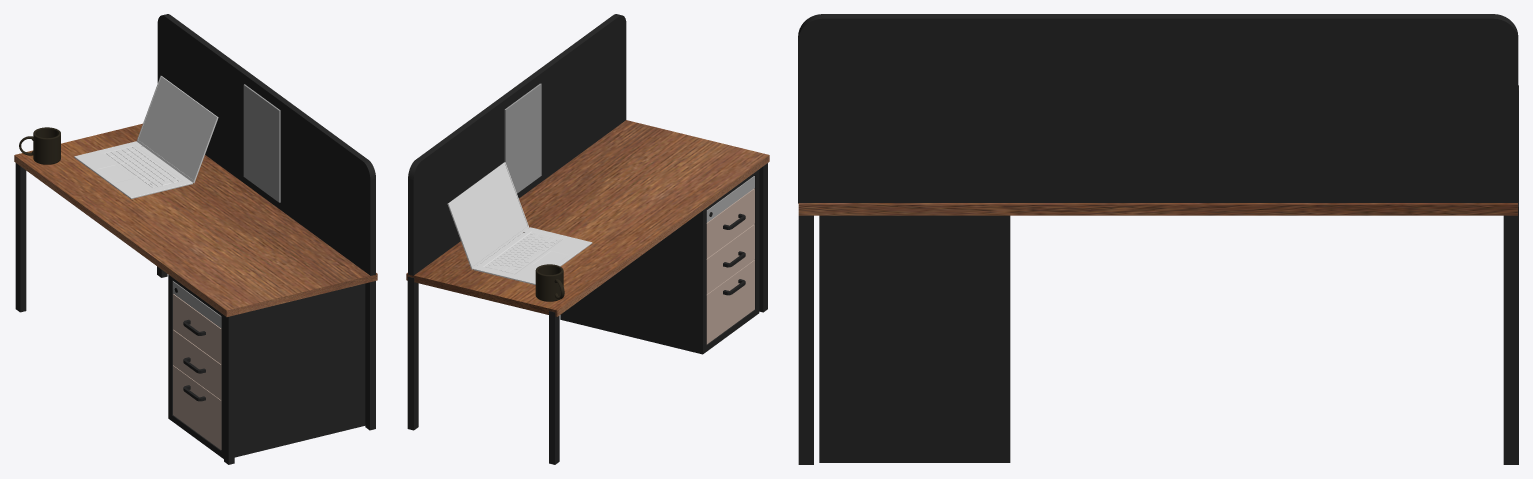
Rendered from 0512testoffice.fbx.
3 views of the same model, side by side, from view 1: azimuth 30°, elevation 25°; view 2: azimuth 150°, elevation 25°; view 3: azimuth 270°, elevation 25° (orthographic). The views are drawn at different scales.
Parts seen in each view (by area): view 1: table, chiffonier, M_partition, pPlane18, Cube, pCube39, Cube.009, Cube.002, Cube.011, Cube.010, Cube.003, Cube.004 (+3 smaller); view 2: table, M_partition, chiffonier, pPlane18, Cube, pCube39, Cube.009, Cube.001, Cube.011, Cube.010, Cube.002, Cube.003 (+3 smaller); view 3: M_partition, chiffonier, table, Cube.001, Cube.004.
Boxes of the visible parts, x1,y1,x2,y2 form: table: (14, 123, 377, 316); chiffonier: (168, 275, 365, 458); M_partition: (157, 14, 375, 275); pPlane18: (138, 78, 215, 179); Cube: (243, 84, 280, 202); pCube39: (74, 141, 192, 198); Cube.009: (173, 365, 221, 449); Cube.002: (15, 163, 26, 312); Cube.011: (173, 294, 221, 363); Cube.010: (173, 329, 221, 399); Cube.003: (224, 315, 234, 464); Cube.004: (365, 281, 375, 430); table: (406, 120, 769, 316); M_partition: (408, 14, 626, 275); chiffonier: (560, 169, 759, 354); pPlane18: (450, 164, 527, 266); Cube: (504, 83, 541, 193); pCube39: (473, 227, 592, 284); Cube.009: (706, 260, 754, 344); Cube.001: (407, 276, 418, 430); Cube.011: (706, 188, 754, 258); Cube.010: (706, 224, 754, 294); Cube.002: (549, 311, 559, 464); Cube.003: (759, 163, 767, 312); M_partition: (798, 14, 1518, 203); chiffonier: (819, 215, 1010, 462); table: (798, 203, 1517, 215); Cube.001: (1503, 202, 1518, 464); Cube.004: (798, 215, 813, 464).
Size of the model in its own units: 51.7 by 84.78 by 124.
